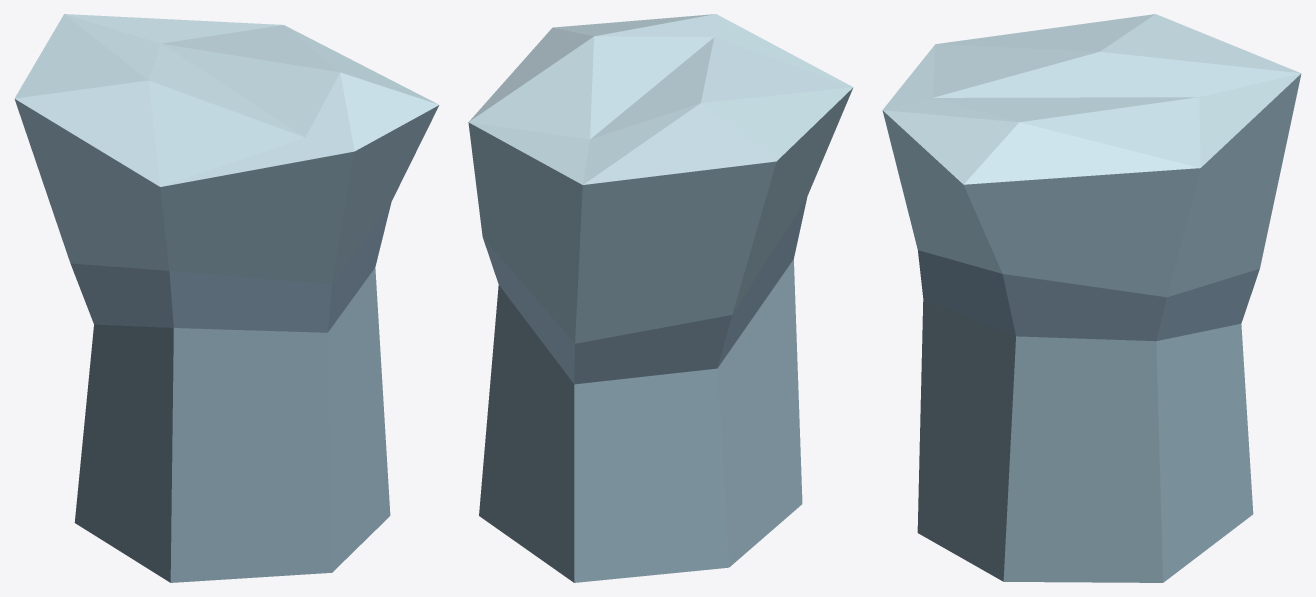
Rendered from SM_Env_Viking_Iceberg_03_Snow.fbx.
The picture shows the model from 3 angles, left to right: view 1: azimuth 30°, elevation 25°; view 2: azimuth 150°, elevation 25°; view 3: azimuth 270°, elevation 25°; orthographic projection. The views are drawn at different scales.
Parts seen in each view (by area): view 1: SM_Env_Viking_Iceberg_03_Snow; view 2: SM_Env_Viking_Iceberg_03_Snow; view 3: SM_Env_Viking_Iceberg_03_Snow.
Part boxes in pixels (x1,y1,x2,y2): SM_Env_Viking_Iceberg_03_Snow: [14, 14, 439, 582]; SM_Env_Viking_Iceberg_03_Snow: [468, 14, 853, 582]; SM_Env_Viking_Iceberg_03_Snow: [882, 14, 1301, 582].
Size of the model in its own units: 46.39 by 60.69 by 52.46.
Materials: 1 (1 with a texture image).
